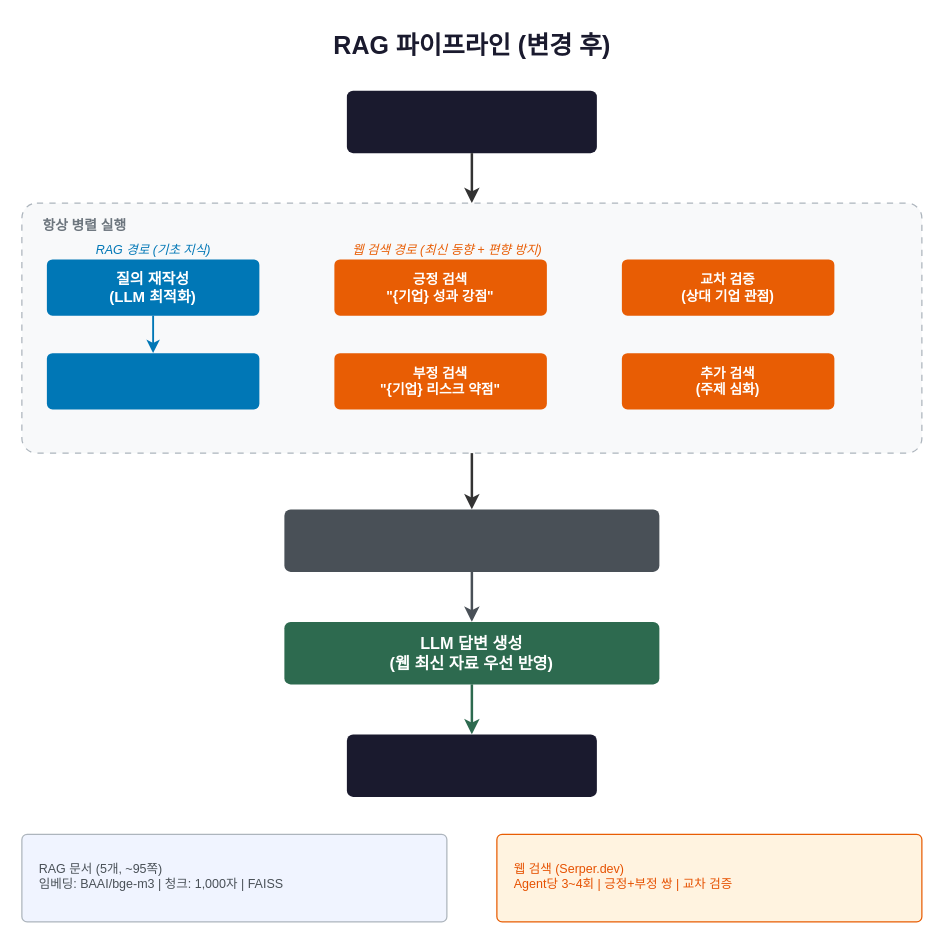
This 944x944 diagram has some shape labels left out. Here are the shapes that lost their labels. From the top down, the centre of each, then its label:
[471,121]: 에이전트 질의
[152,380]: FAISS 벡터 검색 (상위 5개)
[471,540]: RAG + 웹 결과 통합
[471,765]: 섹션 결과물
